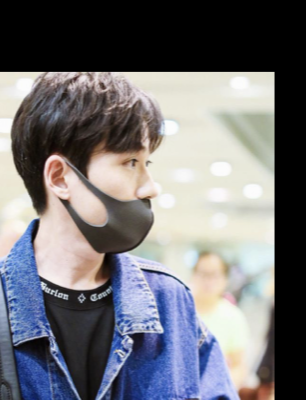mask_weared_incorrect: (74, 143, 158, 253)
